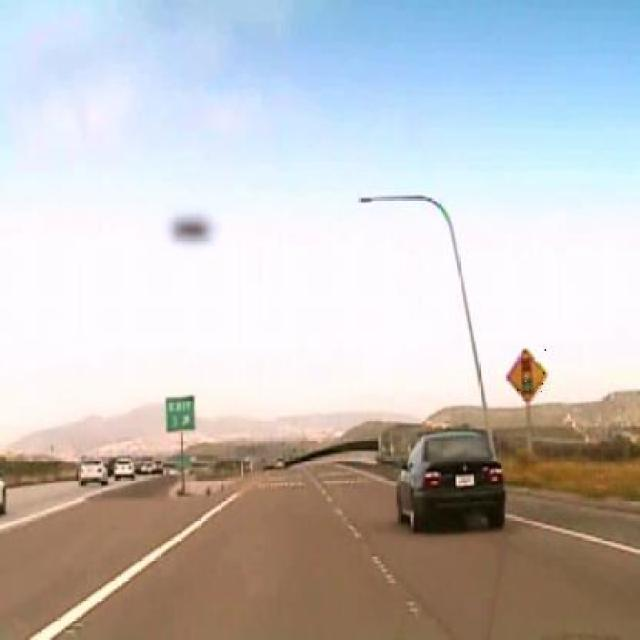signalAhead: (504, 346, 548, 401)
